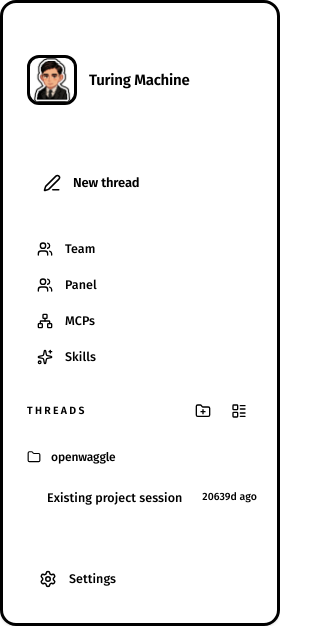
Test: Sidebar project actions › uses the project row as a disclosure toggle without selecting a new draft
The width and height of the screenshot is (320, 643).
Expected: the text "Existing project session" is shown, [47,490,182,505]
Click the button with aria-label "collapse openwaggle" at (114, 457), box [27,448,201,466]
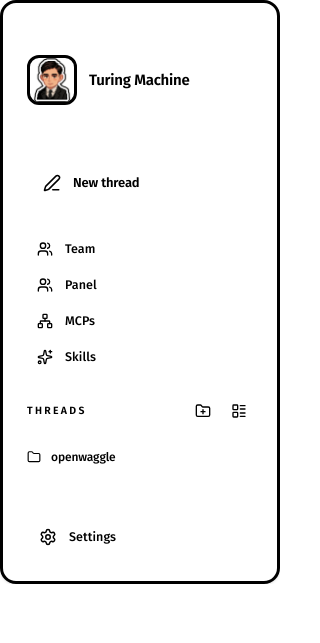
Expected: the button "Existing project session" is gone
